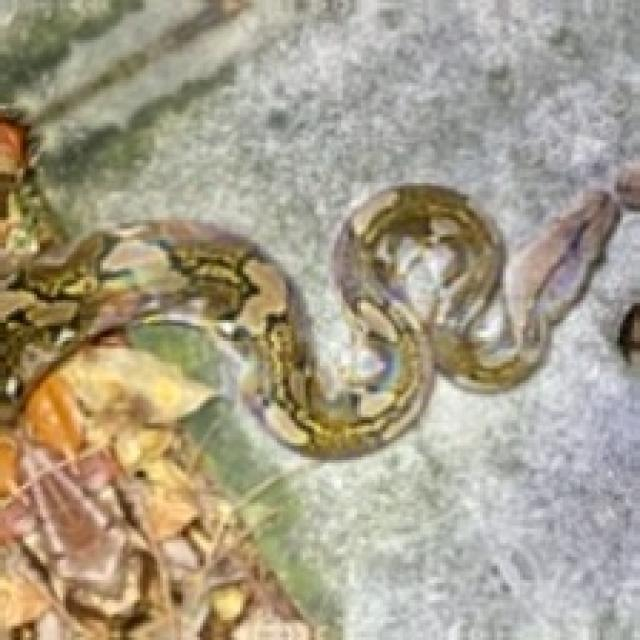reticulated python: (0, 184, 619, 457)
